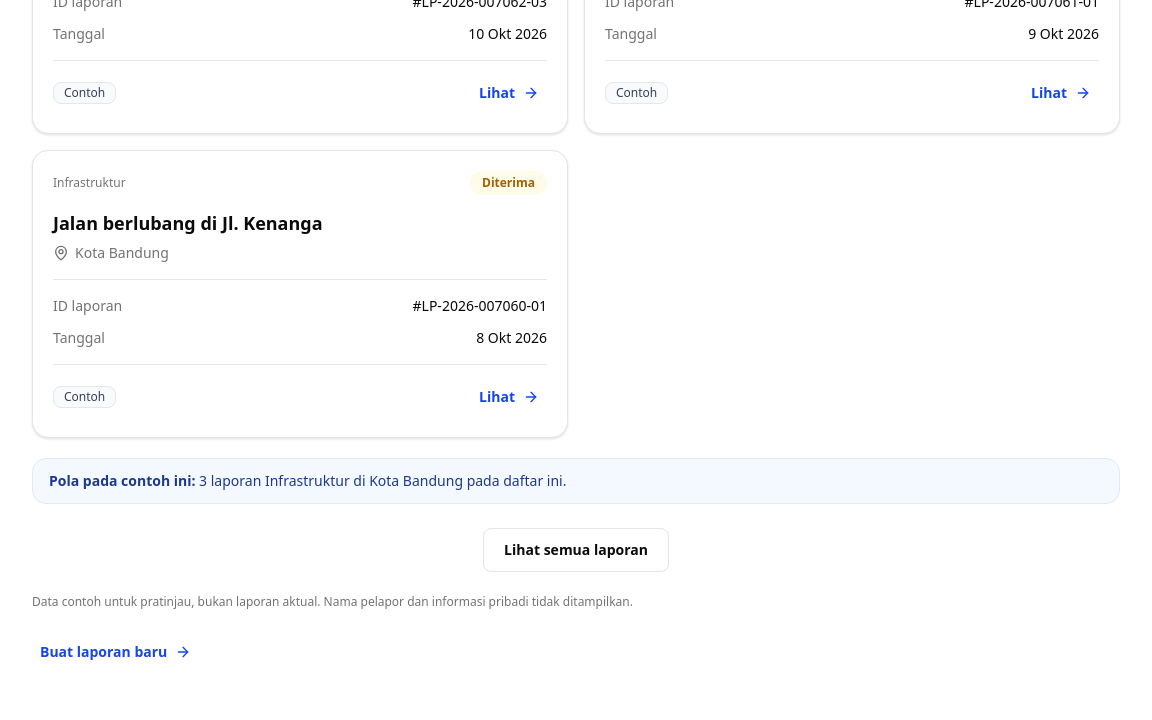
it: RecentReportsSection › loads the next page without showing more than five initially
This screenshot has width=1152, height=720.
(page scrolled)
Click the button "Lihat semua laporan": (576, 550) [483,528,669,572]
(page scrolled)
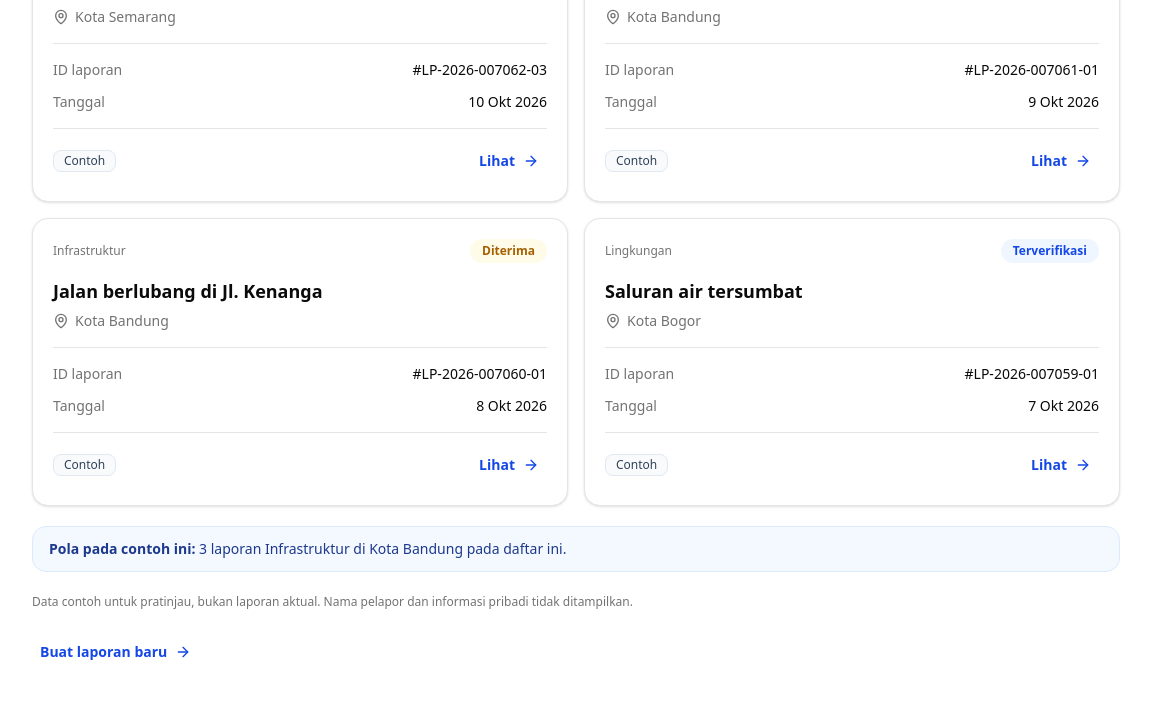
Expected: the heading "Saluran air tersumbat" is shown, [605,279,803,303]
Expected: the number of list items is 6
